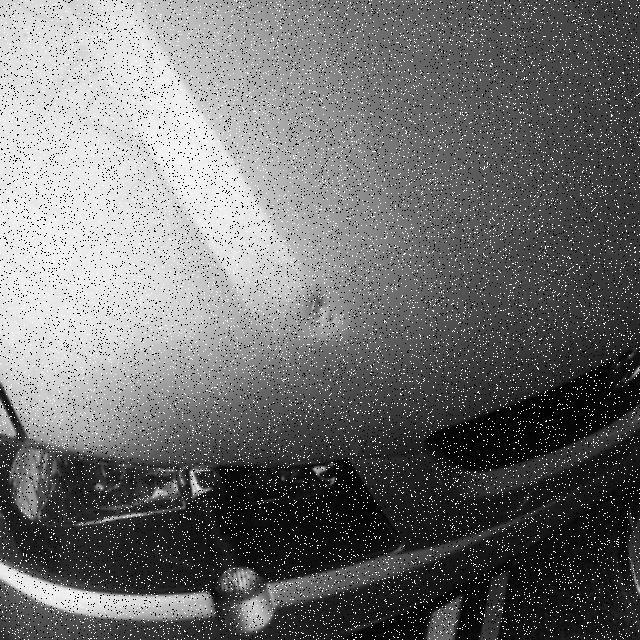bonnet-dent: (113, 3, 585, 558)
